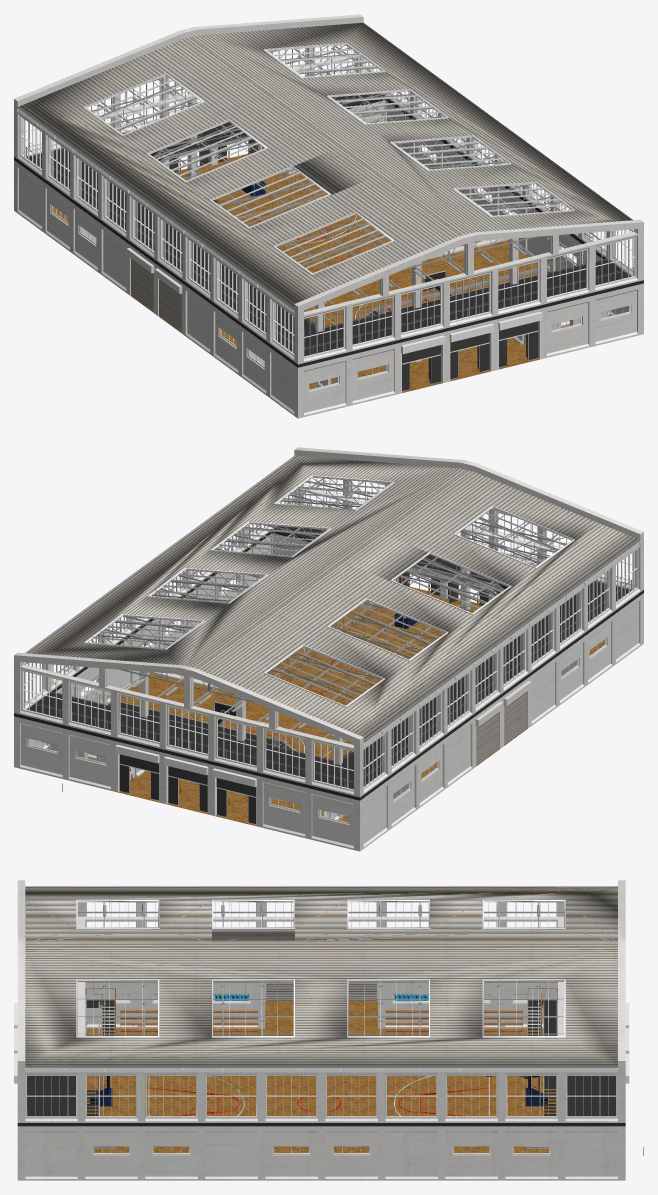
File: porsche-court-test.glb
3 renders of one model, top to bottom at view 1: azimuth 30°, elevation 25°; view 2: azimuth 150°, elevation 25°; view 3: azimuth 270°, elevation 25°, orthographic. The views are drawn at different scales.
Visible parts, largest first — view 1: PlatedDoors_MetalPlatesShader_0_19, DoorTrims_PlasterShader_0_9, BackBoardTrims_WhiteBackboardShader_0_2, LevelFloor_FloorsShader_0_14, GymFloor_ParquetShader_0_13, Bolts_GalvanizedMetalShader_0_4, EntranceDoors1_GlassShader_0_10, Lights_PolishedMetalShader_0_15, EntranceDoors1_WoodFineShader_0_11; view 2: PlatedDoors_MetalPlatesShader_0_19, DoorTrims_PlasterShader_0_9, BackBoardTrims_WhiteBackboardShader_0_2, LevelFloor_FloorsShader_0_14, GymFloor_ParquetShader_0_13, Bolts_GalvanizedMetalShader_0_4, EntranceDoors1_GlassShader_0_10, Lights_PolishedMetalShader_0_15, EntranceDoors1_WoodFineShader_0_11; view 3: PlatedDoors_MetalPlatesShader_0_19, DoorTrims_PlasterShader_0_9, GymFloor_ParquetShader_0_13, BackBoardTrims_WhiteBackboardShader_0_2, LevelFloor_FloorsShader_0_14, Bolts_GalvanizedMetalShader_0_4, EntranceDoors1_WoodFineShader_0_11, Lights_PolishedMetalShader_0_15, Court_WhiteTapeShader_0_7, AmericanFlag_BasketballBaseShader_0_0.
Boxes of the visible parts, bbox=[...] form: PlatedDoors_MetalPlatesShader_0_19: bbox=[17, 22, 632, 332]; DoorTrims_PlasterShader_0_9: bbox=[14, 14, 643, 418]; BackBoardTrims_WhiteBackboardShader_0_2: bbox=[17, 43, 636, 393]; LevelFloor_FloorsShader_0_14: bbox=[14, 93, 643, 367]; GymFloor_ParquetShader_0_13: bbox=[53, 153, 610, 392]; Bolts_GalvanizedMetalShader_0_4: bbox=[18, 45, 633, 312]; EntranceDoors1_GlassShader_0_10: bbox=[160, 139, 538, 390]; Lights_PolishedMetalShader_0_15: bbox=[26, 47, 633, 353]; EntranceDoors1_WoodFineShader_0_11: bbox=[25, 66, 633, 372]; PlatedDoors_MetalPlatesShader_0_19: bbox=[25, 455, 640, 765]; DoorTrims_PlasterShader_0_9: bbox=[14, 447, 643, 851]; BackBoardTrims_WhiteBackboardShader_0_2: bbox=[21, 475, 640, 826]; LevelFloor_FloorsShader_0_14: bbox=[14, 526, 643, 800]; GymFloor_ParquetShader_0_13: bbox=[47, 586, 604, 825]; Bolts_GalvanizedMetalShader_0_4: bbox=[24, 478, 639, 745]; EntranceDoors1_GlassShader_0_10: bbox=[119, 572, 497, 823]; Lights_PolishedMetalShader_0_15: bbox=[24, 480, 631, 786]; EntranceDoors1_WoodFineShader_0_11: bbox=[24, 499, 632, 805]; PlatedDoors_MetalPlatesShader_0_19: bbox=[25, 886, 617, 1067]; DoorTrims_PlasterShader_0_9: bbox=[17, 880, 625, 1180]; GymFloor_ParquetShader_0_13: bbox=[86, 1001, 556, 1152]; BackBoardTrims_WhiteBackboardShader_0_2: bbox=[14, 899, 629, 1154]; LevelFloor_FloorsShader_0_14: bbox=[17, 1000, 625, 1126]; Bolts_GalvanizedMetalShader_0_4: bbox=[26, 901, 616, 1071]; EntranceDoors1_WoodFineShader_0_11: bbox=[27, 988, 616, 1115]; Lights_PolishedMetalShader_0_15: bbox=[27, 905, 616, 1152]; Court_WhiteTapeShader_0_7: bbox=[148, 1076, 489, 1116]; AmericanFlag_BasketballBaseShader_0_0: bbox=[90, 1076, 547, 1106].
Size of what is drawn, in the model's own units: 27.64 by 10.91 by 40.3.
34 materials, 12 textured.
